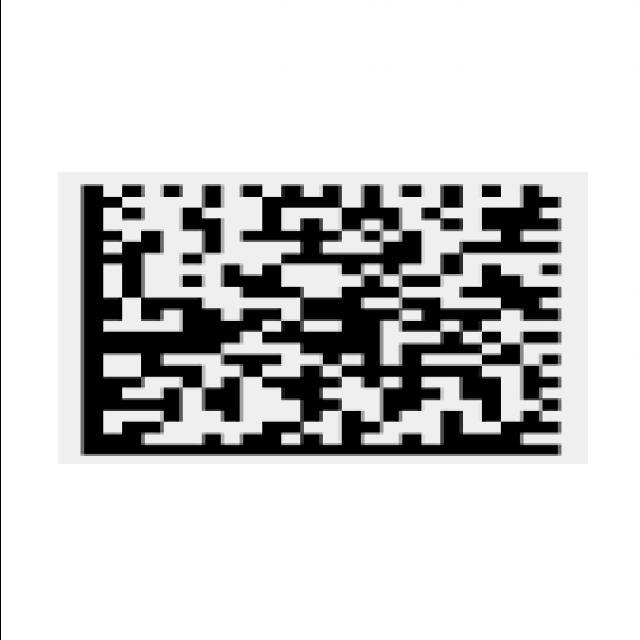Data-Matrix: (57, 172, 587, 464)
